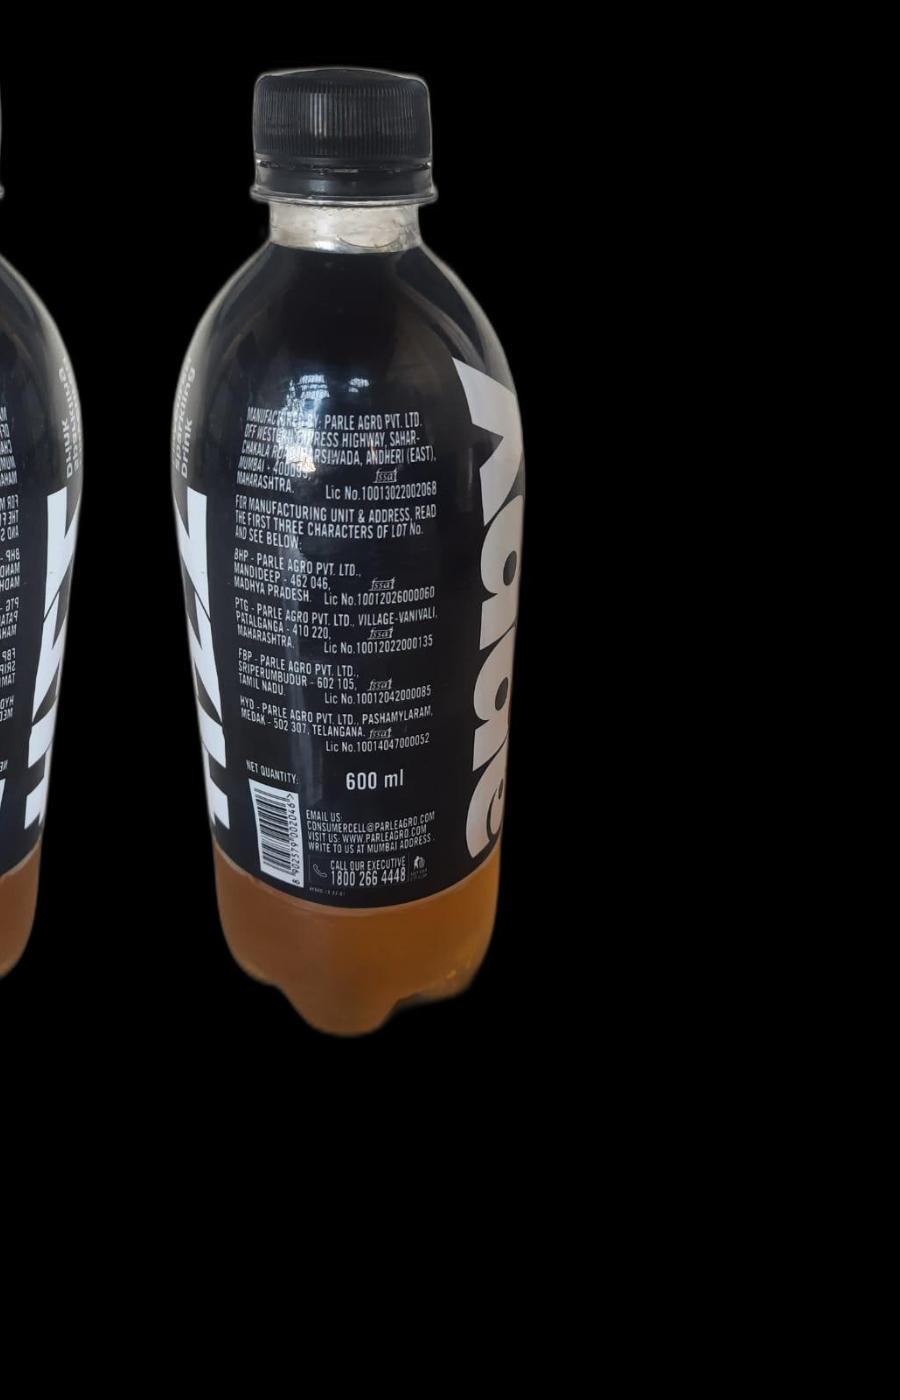Appy Fizz Apple Juice -250 ml-: (164, 45, 538, 1050), (0, 44, 87, 1049)
